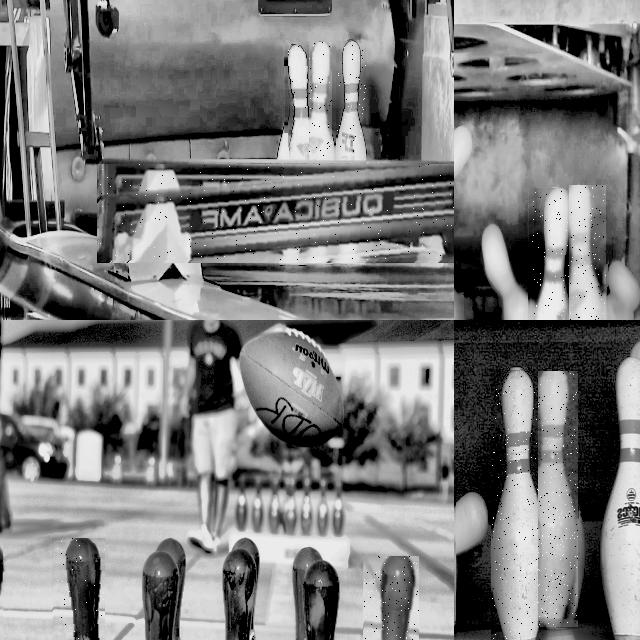bowling-pins: (492, 369, 547, 640), (538, 372, 578, 625), (532, 189, 569, 320), (569, 185, 604, 320), (62, 539, 97, 640), (337, 42, 366, 159), (142, 551, 178, 640), (223, 548, 256, 640), (156, 538, 185, 640), (379, 557, 413, 640), (293, 547, 322, 640), (309, 42, 331, 158), (287, 45, 308, 160), (231, 537, 260, 589)
sweep board: (100, 165, 454, 260)
